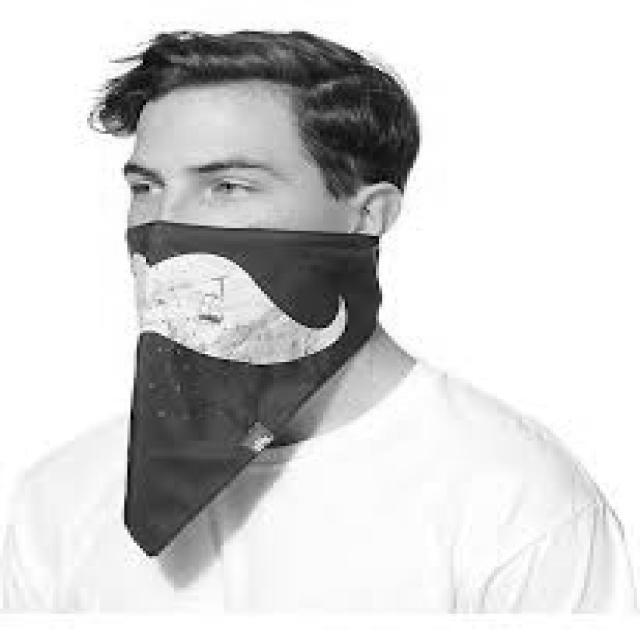fake: (112, 217, 390, 565)
real: (119, 82, 325, 444)
